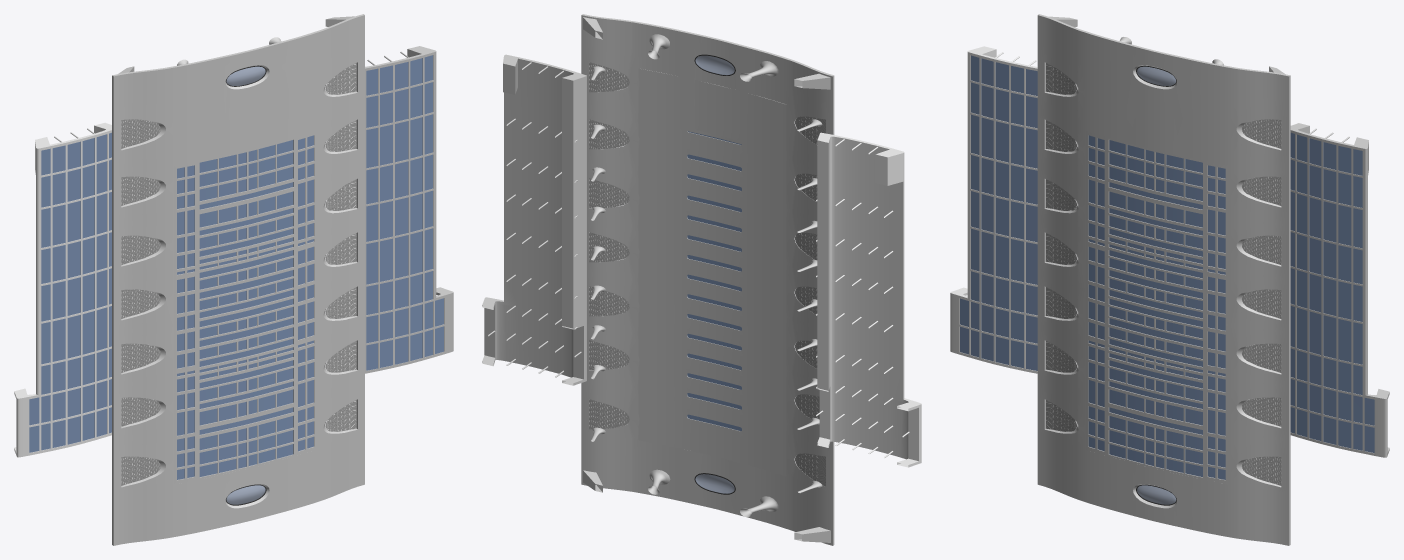
File: 7_HugeRoof.gltf
3 renders of one model, left to right at view 1: azimuth 30°, elevation 25°; view 2: azimuth 150°, elevation 25°; view 3: azimuth 330°, elevation 25°, orthographic.
Visible parts, largest first — view 1: SM_HugeRoof_MainSide, SM_HugeRoof_MianGlass, SM_HugeRoof_SideShelterSouth, SM_HugeRoof_SideShelterNorth, SM_HugeRoof_MainCenter, SM_HugeRoof_MainInnerHoles; view 2: SM_HugeRoof_MidUnderpart, SM_HugeRoof_MainSide, SM_HugeRoof_SideShelterSouth, SM_HugeRoof_SideShelterNorth, SM_HugeRoof_MainInnerHoles, SM_HugeRoof_MainPillar, SM_HugeRoof_MianGlass; view 3: SM_HugeRoof_MainSide, SM_HugeRoof_MianGlass, SM_HugeRoof_SideShelterNorth, SM_HugeRoof_SideShelterSouth, SM_HugeRoof_MainCenter, SM_HugeRoof_MainInnerHoles.
Part boxes in pixels (bbox=[...]): SM_HugeRoof_MainSide: bbox=[112, 14, 364, 545]; SM_HugeRoof_MianGlass: bbox=[177, 135, 313, 479]; SM_HugeRoof_SideShelterSouth: bbox=[14, 122, 111, 457]; SM_HugeRoof_SideShelterNorth: bbox=[365, 46, 453, 373]; SM_HugeRoof_MainCenter: bbox=[174, 131, 316, 484]; SM_HugeRoof_MainInnerHoles: bbox=[121, 63, 356, 485]; SM_HugeRoof_MidUnderpart: bbox=[638, 68, 786, 476]; SM_HugeRoof_MainSide: bbox=[581, 14, 834, 545]; SM_HugeRoof_SideShelterSouth: bbox=[816, 132, 921, 467]; SM_HugeRoof_SideShelterNorth: bbox=[482, 54, 586, 385]; SM_HugeRoof_MainInnerHoles: bbox=[589, 62, 825, 486]; SM_HugeRoof_MainPillar: bbox=[583, 17, 830, 542]; SM_HugeRoof_MianGlass: bbox=[687, 131, 741, 431]; SM_HugeRoof_MainSide: bbox=[1037, 14, 1290, 545]; SM_HugeRoof_MianGlass: bbox=[1088, 135, 1225, 479]; SM_HugeRoof_SideShelterNorth: bbox=[1290, 123, 1389, 457]; SM_HugeRoof_SideShelterSouth: bbox=[950, 46, 1037, 373]; SM_HugeRoof_MainCenter: bbox=[1086, 131, 1228, 484]; SM_HugeRoof_MainInnerHoles: bbox=[1046, 63, 1281, 485].
Size of the model in its own units: 497 by 511 by 42.76.
6 materials, 1 textured.
